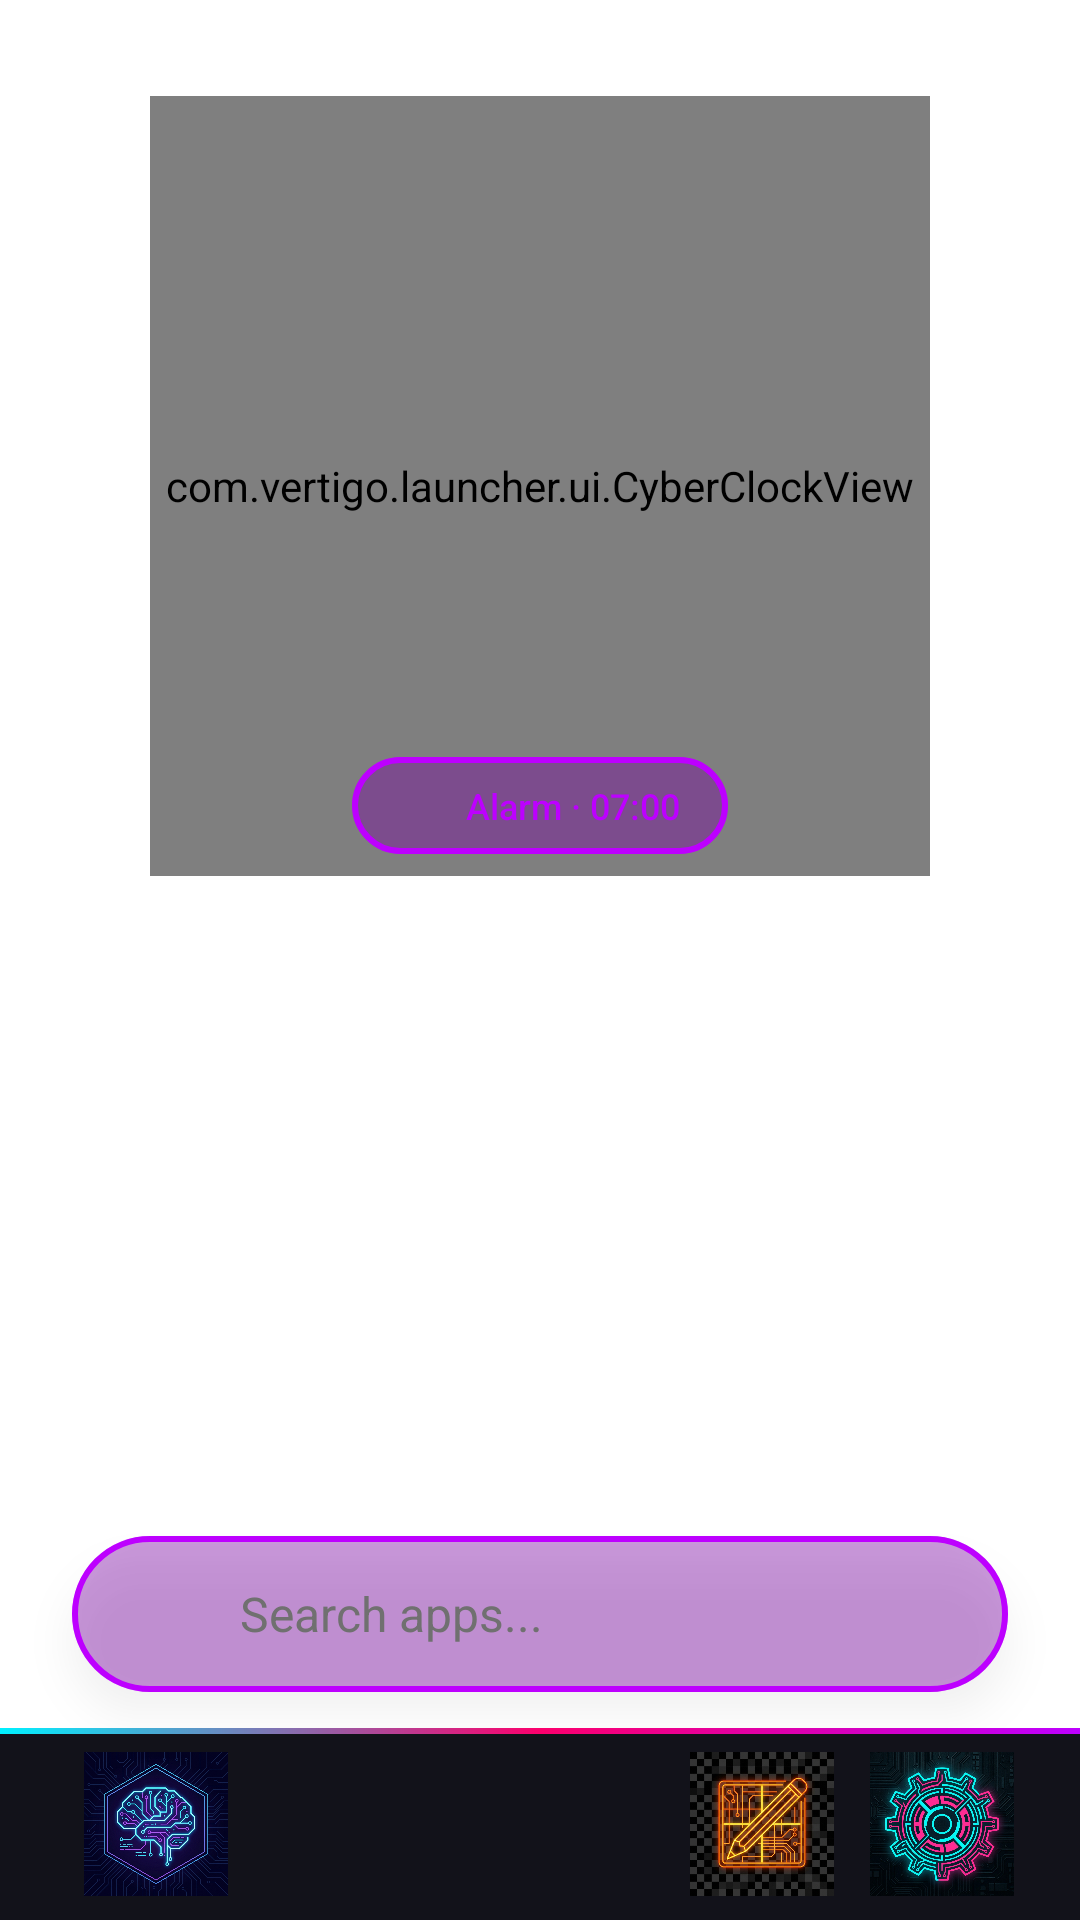

Screen size 1080w x 1920h. Icon name, then its box in pixels as bbox=(x1, y1, x2, y2):
Edit Layout: bbox=(690, 1752, 834, 1896)
Neural Hub: bbox=(84, 1752, 228, 1896)
V-Launcher Settings: bbox=(870, 1752, 1014, 1896)
